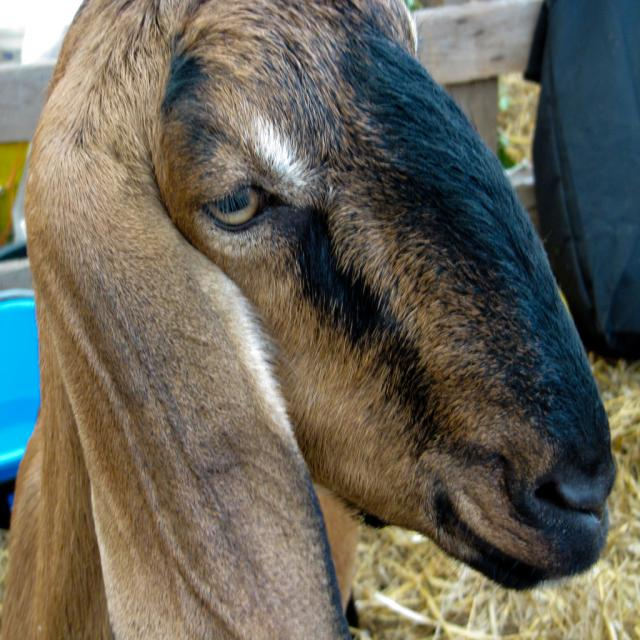Goat: (0, 0, 617, 639)
